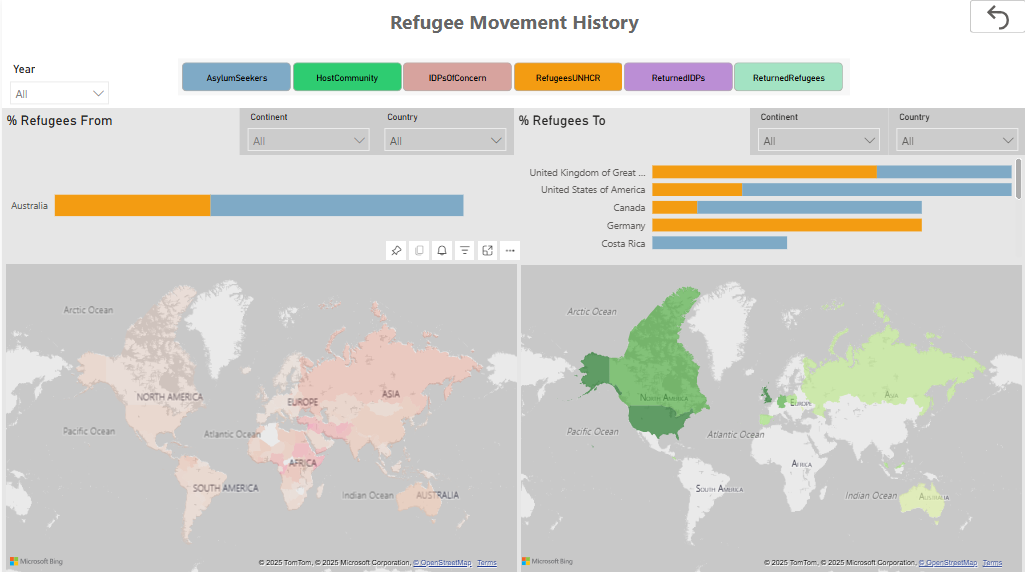

Layout of this report page (visuals, bound fields, positions):
{"tool":"powerbi","page":{"name":"Test","canvas":[1280,720],"ordinal":2},"visuals":[{"type":"filledMap","title":"Refugee Fleeing To","fields":{"Category":["RefugeeFact.CountryAsylum"]},"box":[640,326.2,640,393.8],"z":0},{"type":"filledMap","title":"Refugee Fleeing To","fields":{"Category":["RefugeeFact.CountryAsylum"]},"box":[640,326.2,640,393.8],"z":1000},{"type":"filledMap","title":"Refugees Fleeing From","fields":{"Category":["RefugeeFact.CountryOrigin"]},"box":[0,325.5,648.2,394.5],"z":2000},{"type":"barChart","title":"      ","fields":{"Y":["CountNonNull(RefugeeFact.PopulationCount)"],"Series":["RefugeeFact.PopulationType"],"Category":["RefugeeFact.CountryOrigin"]},"box":[627,22,640,55],"z":3000},{"type":"barChart","title":"      ","fields":{"Y":["CountNonNull(RefugeeFact.PopulationCount)"],"Series":["RefugeeFact.PopulationType"],"Category":["RefugeeFact.CountryAsylum"]},"box":[640,129,640,160],"z":4000},{"type":"slicer","fields":{"Values":["RefugeeFact.ContinentOrigin"]},"box":[233.4,46.3,172.2,56.4],"z":5000},{"type":"group","id":"g1","title":"Group 2","box":[640,14,123,25],"z":6000},{"type":"slicer","fields":{"Values":["RefugeeFact.CountryOrigin"]},"box":[434.8,48.9,172.2,55.4],"z":7000},{"type":"textbox","box":[0,129.1,161,35],"z":8000},{"type":"barChart","fields":{"Category":["RefugeeFact.CountryOrigin"],"Y":["Bar.Filtered Refugee Population"],"Series":["PopulationTypeDim.PopulationType"]},"box":[0,119.1,640,204.3],"z":9000},{"type":"slicer","fields":{"Values":["RefugeeFact.ContinentAsylum"]},"box":[693.5,14,33.1,12],"z":10000,"group":"g1"},{"type":"textbox","box":[640,31.6,28,7.4],"z":12000,"group":"g1"},{"type":"slicer","fields":{"Values":["RefugeeFact.CountryAsylum"]},"box":[729.9,14.6,33.1,11.8],"z":13500,"group":"g1"}]}

Visuals, with their boxes in screenshot pixels (x1, y1, x2, y2), scaled from the page's 1280x720 canvas onto the 1025x572 screenshot:
"Refugee Fleeing To" filledMap: detection(512, 259, 1024, 571)
"Refugee Fleeing To" filledMap: detection(512, 259, 1024, 571)
"Refugees Fleeing From" filledMap: detection(0, 259, 519, 571)
"      " barChart: detection(502, 17, 1015, 61)
"      " barChart: detection(512, 102, 1024, 230)
slicer - RefugeeFact.ContinentOrigin: detection(187, 37, 325, 82)
"Group 2" group: detection(512, 11, 611, 31)
slicer - RefugeeFact.CountryOrigin: detection(348, 39, 486, 83)
textbox: detection(0, 103, 129, 130)
barChart - RefugeeFact.CountryOrigin x Bar.Filtered Refugee Population: detection(0, 95, 512, 257)
slicer - RefugeeFact.ContinentAsylum: detection(555, 11, 582, 21)
textbox: detection(512, 25, 535, 31)
slicer - RefugeeFact.CountryAsylum: detection(584, 12, 611, 21)
